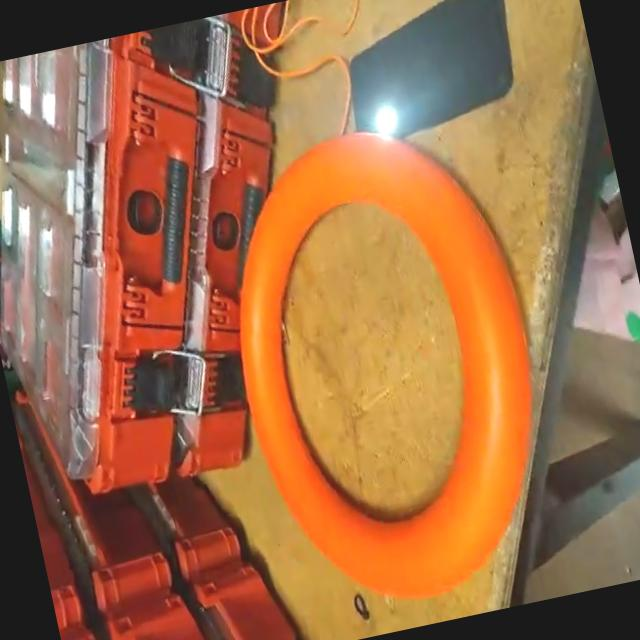note: (193, 98, 582, 623)
